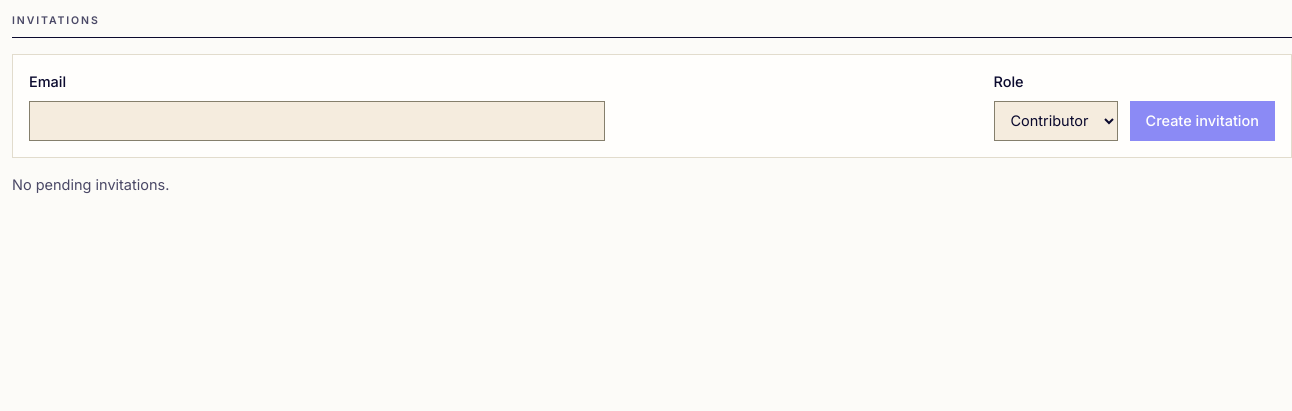
Test: members controls › shows an issued link once, read-only, with the recipient named
In the field labelled "Email": coordinates (317, 120) [29, 100, 605, 140], type "New@E2E.test"
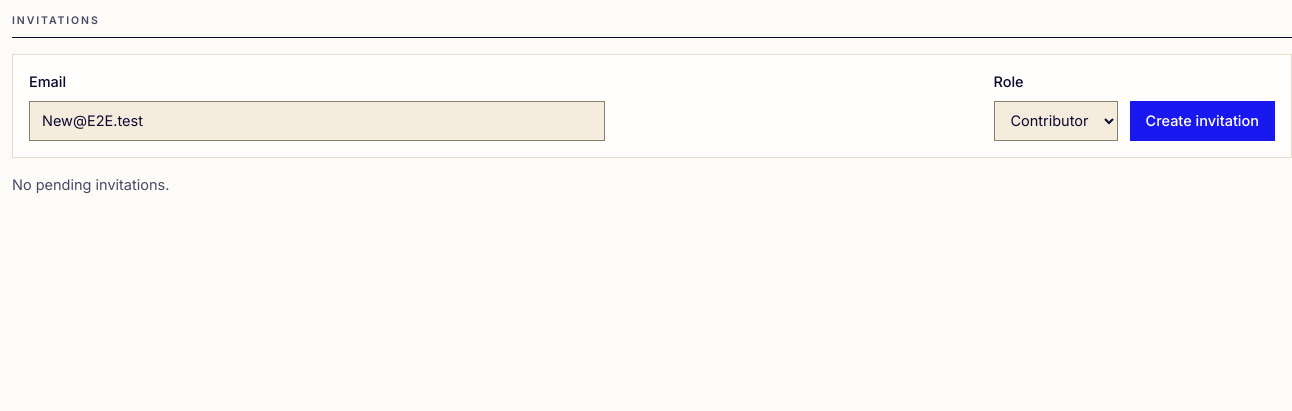
Select "Contributor" in the dropdown labelled "Role": coordinates (1056, 120) [994, 100, 1118, 140]
Click the button "Create invitation": coordinates (1202, 120) [1130, 100, 1275, 140]
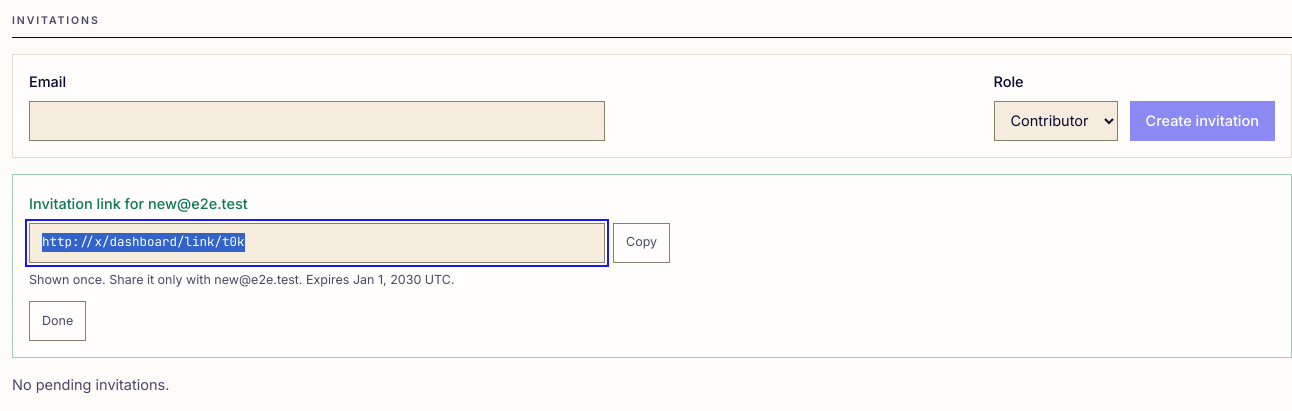
Result: the field labelled "Invitation link for new@e2e.test" holds "http://x/dashboard/link/t0k" at [29, 222, 605, 262]
Result: the button "Copy" is shown at [613, 222, 670, 262]
Result: the text "Shown once. Share it only with new@e2e.test." is shown at [29, 272, 454, 286]
Click the button "Done": coordinates (58, 321) [29, 301, 86, 341]
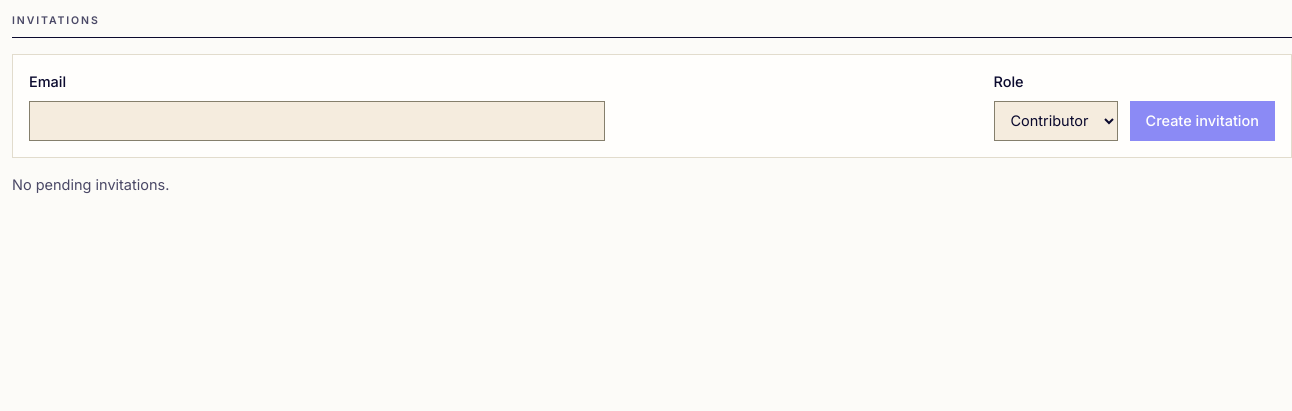
Result: the label labelled "Invitation link for" is gone
